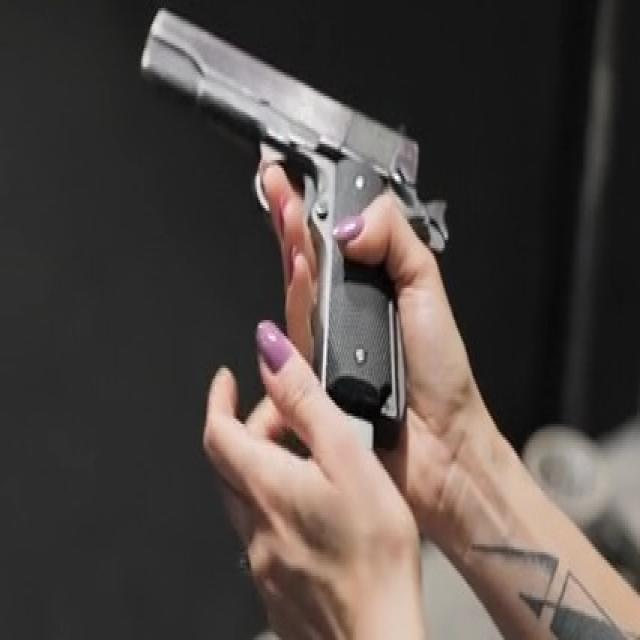Gun_Holder: (148, 0, 433, 429)
